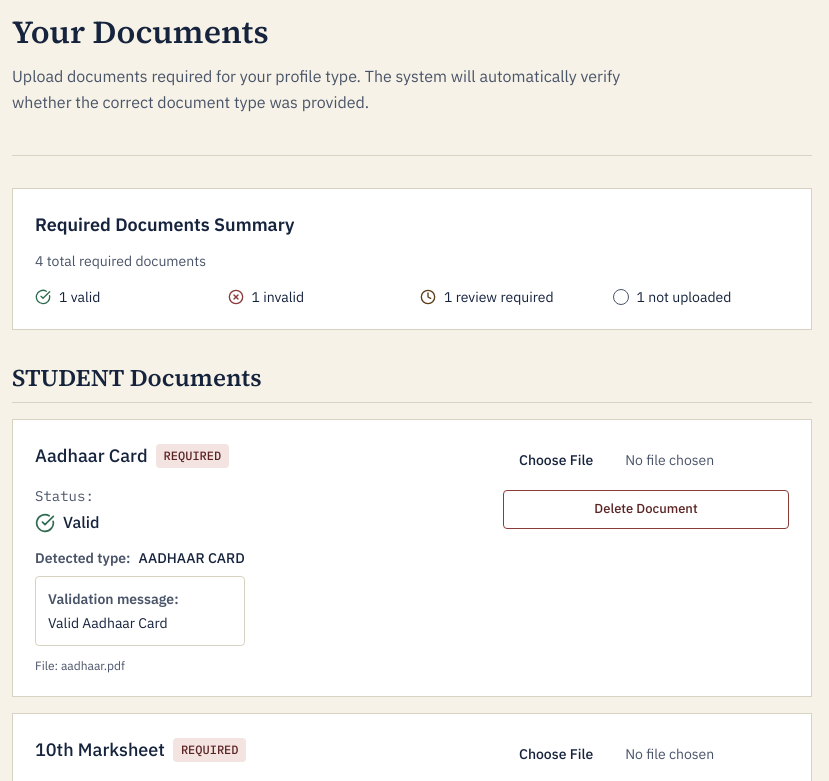
Test: DocumentsPage › displays an error message when document deletion fails
expect the heading "Aadhaar Card REQUIRED" is shown: met, box 35,442 -> 245,470
What coordinates should you click on to do the following:
click the 1st button "Delete Document"
I would click on:
 (646, 510)
Its box is 503,490 -> 789,529.
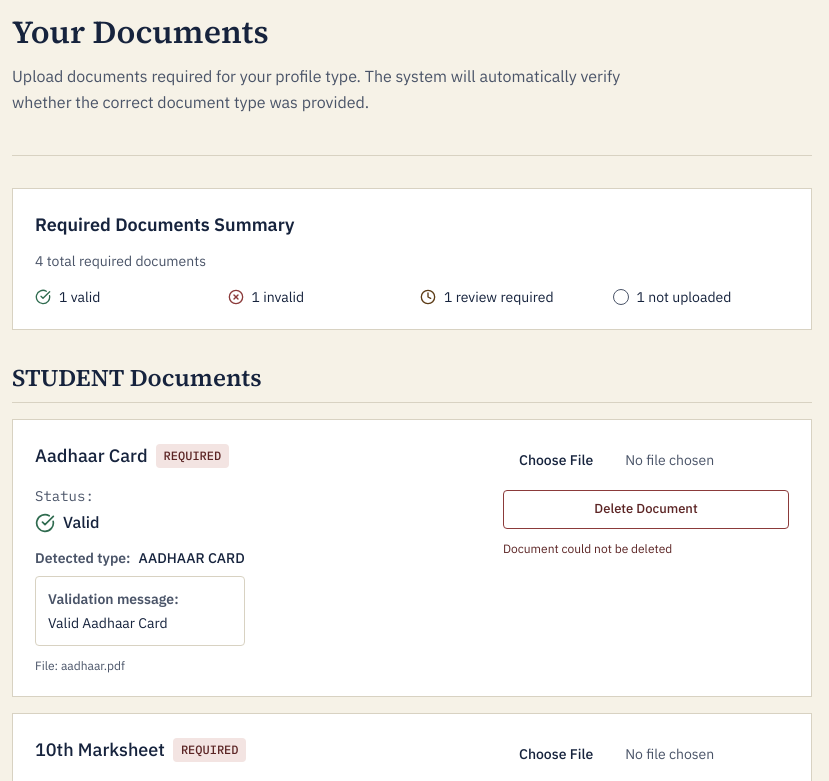
expect the text "Document could not be deleted" is shown: met, box 503,541 -> 672,556
